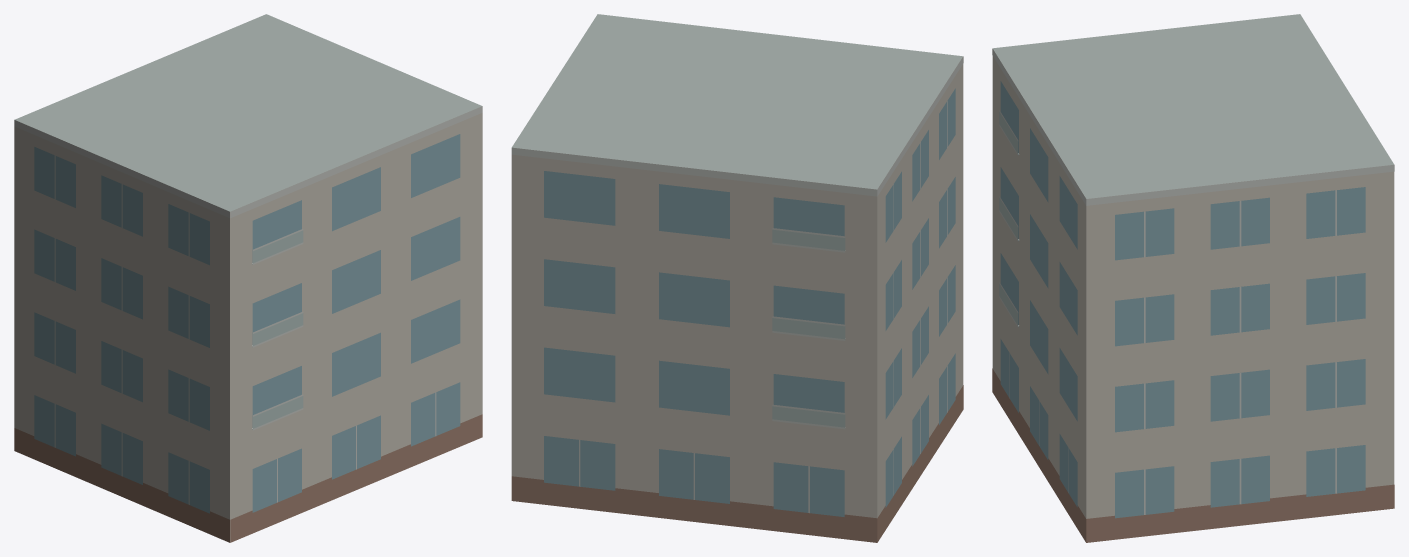
File: residential-616b78b6-f42c-47b7-adbc-ce09364acb8b.glb
The picture shows the model from 3 angles, left to right: view 1: azimuth 30°, elevation 25°; view 2: azimuth 150°, elevation 25°; view 3: azimuth 270°, elevation 25°; orthographic projection. The views are drawn at different scales.
Parts seen in each view (by area): view 1: residential-616b78b6-f42c-47b7-adbc-ce09364acb8b.tmp; view 2: residential-616b78b6-f42c-47b7-adbc-ce09364acb8b.tmp; view 3: residential-616b78b6-f42c-47b7-adbc-ce09364acb8b.tmp.
Part boxes in pixels (box(x1,y1,x2,y2)): residential-616b78b6-f42c-47b7-adbc-ce09364acb8b.tmp: box(14, 14, 482, 542); residential-616b78b6-f42c-47b7-adbc-ce09364acb8b.tmp: box(511, 14, 963, 542); residential-616b78b6-f42c-47b7-adbc-ce09364acb8b.tmp: box(992, 14, 1394, 542).
Bounding box in the file's own units: 14.09 × 12.2 × 12.94.
